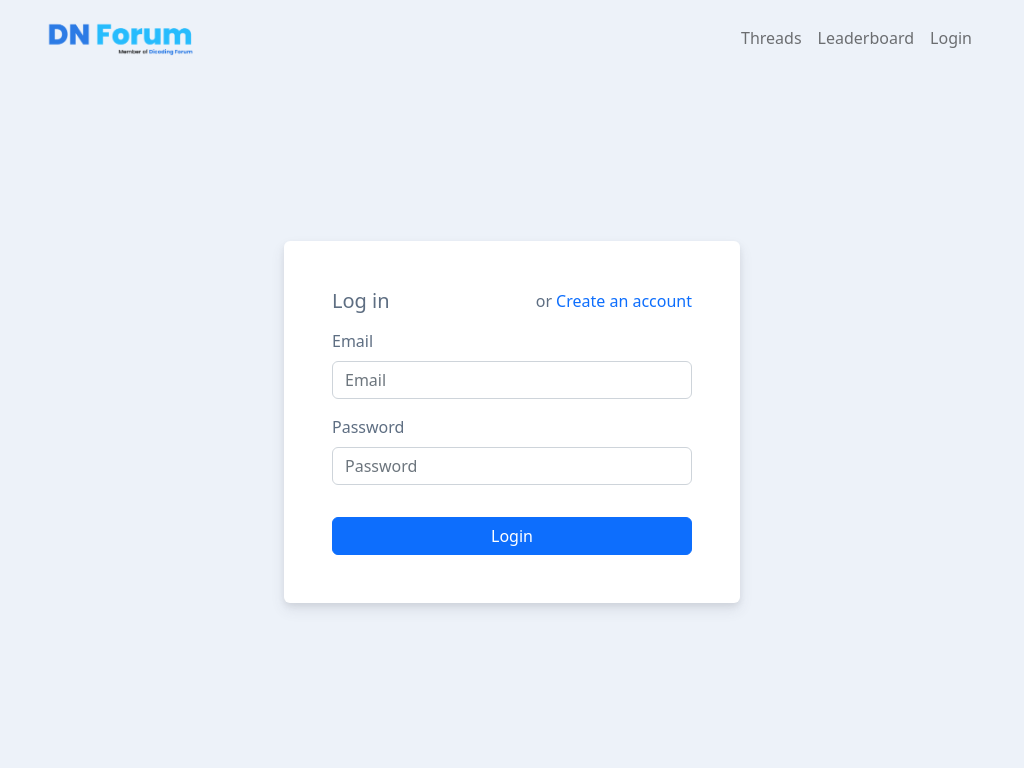
Login spec › should display alert when email is invalid
Type "danabontot" into the field with placeholder "Email".
click(512, 380); type("danabontot")  # box [332,361,692,399]
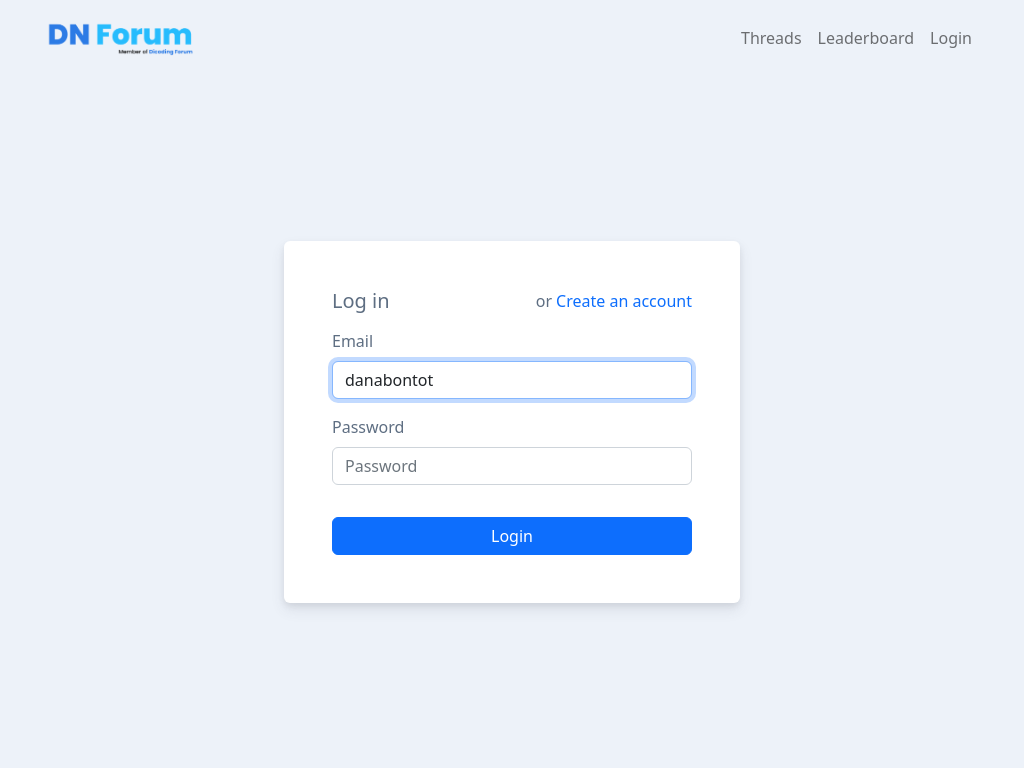
Click the button "Login".
click(512, 536)  # box [332,517,692,555]
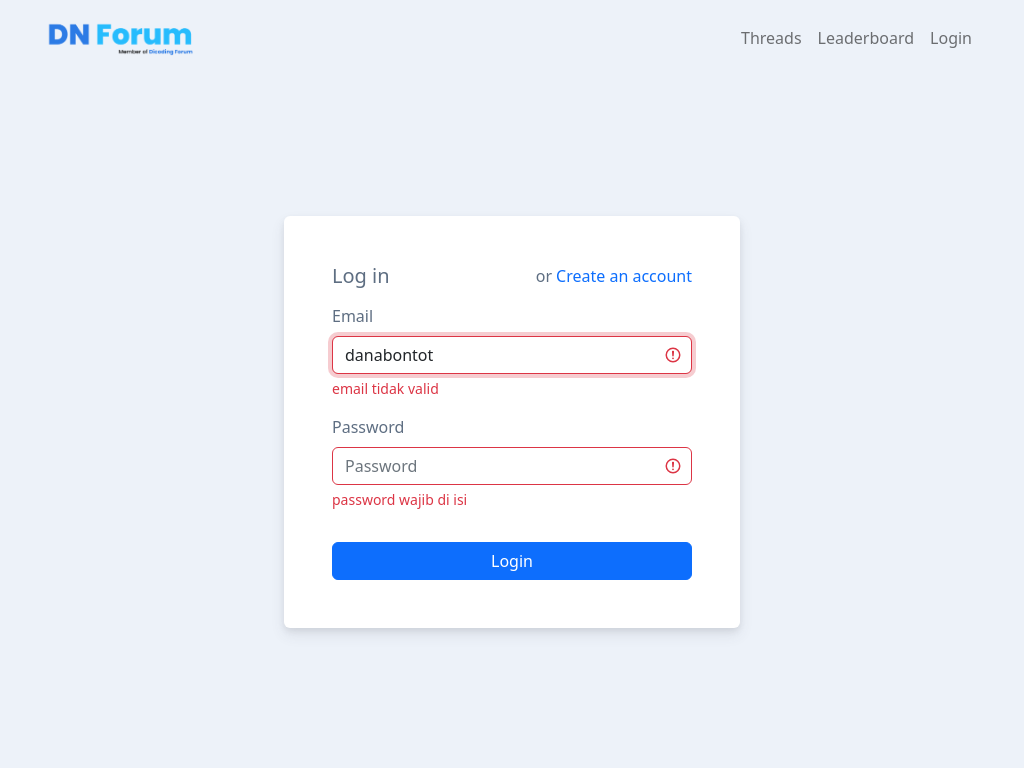
Result: the text "email tidak valid" is shown at [332,379,439,398]
